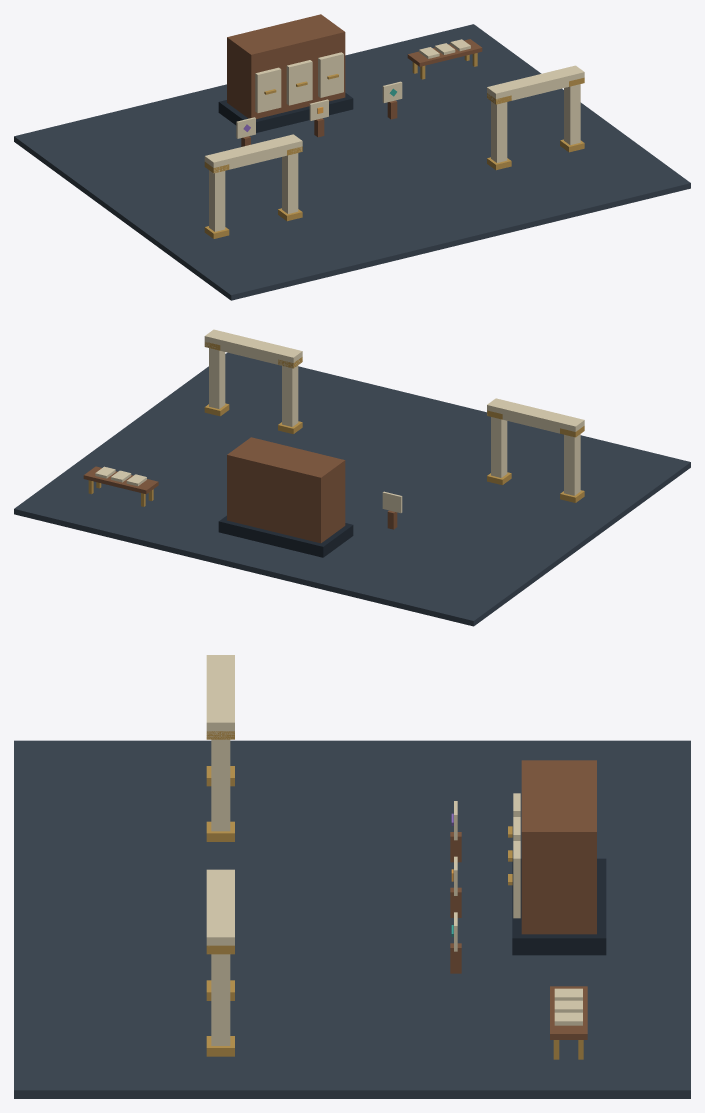
File: name_registry.glb
3 views of the same model, one above another, from view 1: azimuth 30°, elevation 25°; view 2: azimuth 150°, elevation 25°; view 3: azimuth 270°, elevation 25° (orthographic). The views are drawn at different scales.
Parts seen in each view (by area): view 1: name_registry; view 2: name_registry; view 3: name_registry.
Part boxes in pixels (x1,y1,x2,y2): name_registry: (14,14,690,300); name_registry: (14,329,690,626); name_registry: (14,655,690,1098).
Size of the model in its own units: 88 by 15 by 72.
